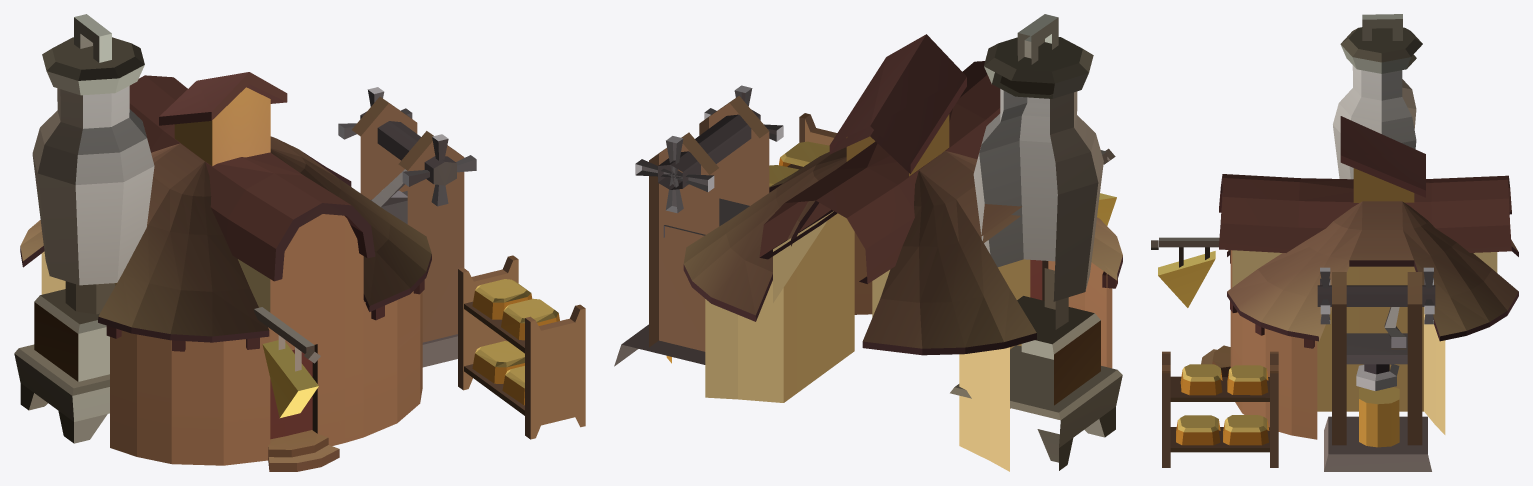
The model's file is building24.fbx.
The picture shows the model from 3 angles, left to right: view 1: azimuth 30°, elevation 25°; view 2: azimuth 150°, elevation 25°; view 3: azimuth 270°, elevation 25°; orthographic projection. The views are drawn at different scales.
Visible parts, largest first — view 1: building24; view 2: building24; view 3: building24.
Boxes of the visible parts, x1=… form: building24: x1=14, y1=14, x2=585, y2=471; building24: x1=614, y1=14, x2=1122, y2=471; building24: x1=1151, y1=14, x2=1518, y2=471.
Bounding box in the file's own units: 2.56 × 2.27 × 2.4.
Materials: 1 (1 with a texture image).
